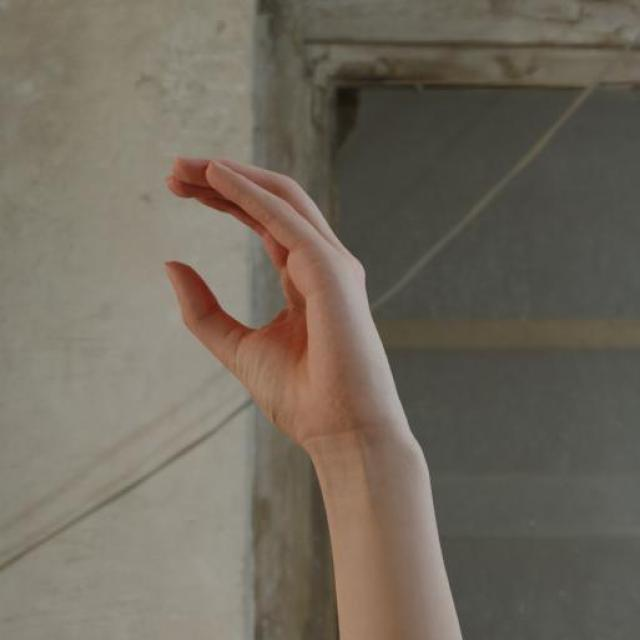C: (146, 144, 432, 468)
